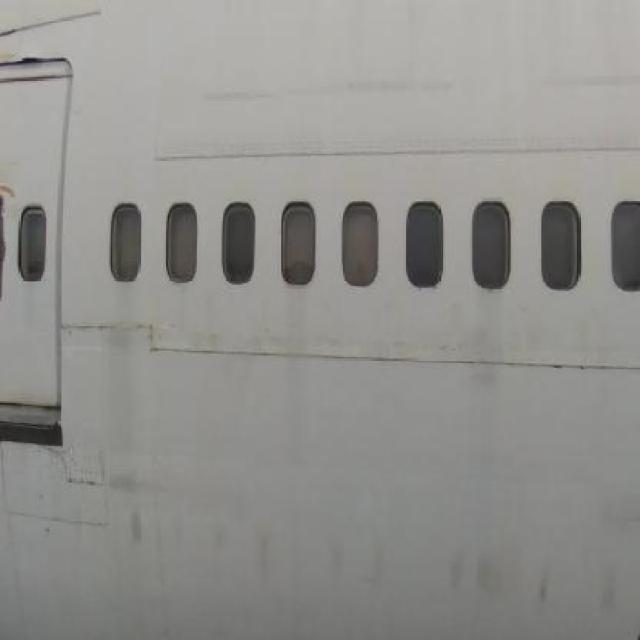Scartch: (435, 533, 640, 639), (196, 70, 458, 124), (531, 51, 640, 120), (108, 460, 178, 563), (209, 505, 276, 607), (322, 516, 388, 612)
